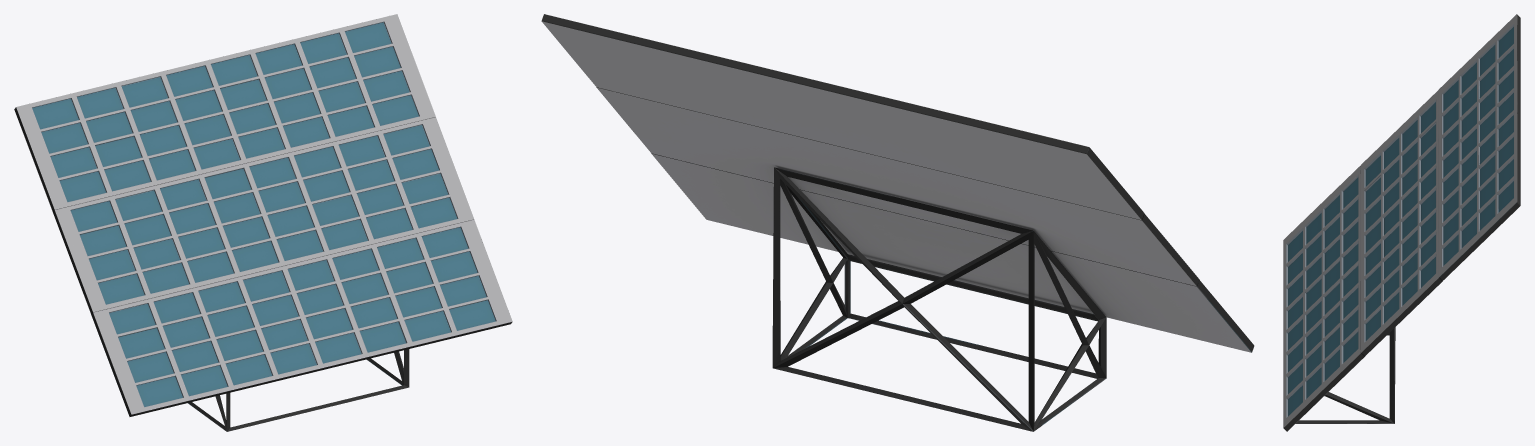
File: board.glb
3 renders of one model, left to right at view 1: azimuth 30°, elevation 25°; view 2: azimuth 150°, elevation 25°; view 3: azimuth 270°, elevation 25°, orthographic. The views are drawn at different scales.
Visible parts, largest first — view 1: Cube.019; view 2: Cube.019; view 3: Cube.019.
Boxes of the visible parts, x1,y1,x2,y2 form: Cube.019: (14, 14, 512, 431); Cube.019: (541, 14, 1254, 431); Cube.019: (1283, 14, 1520, 431).
Size of the model in its own units: 1.6 by 1.07 by 0.8513.
Materials: 3 (3 with a texture image).
